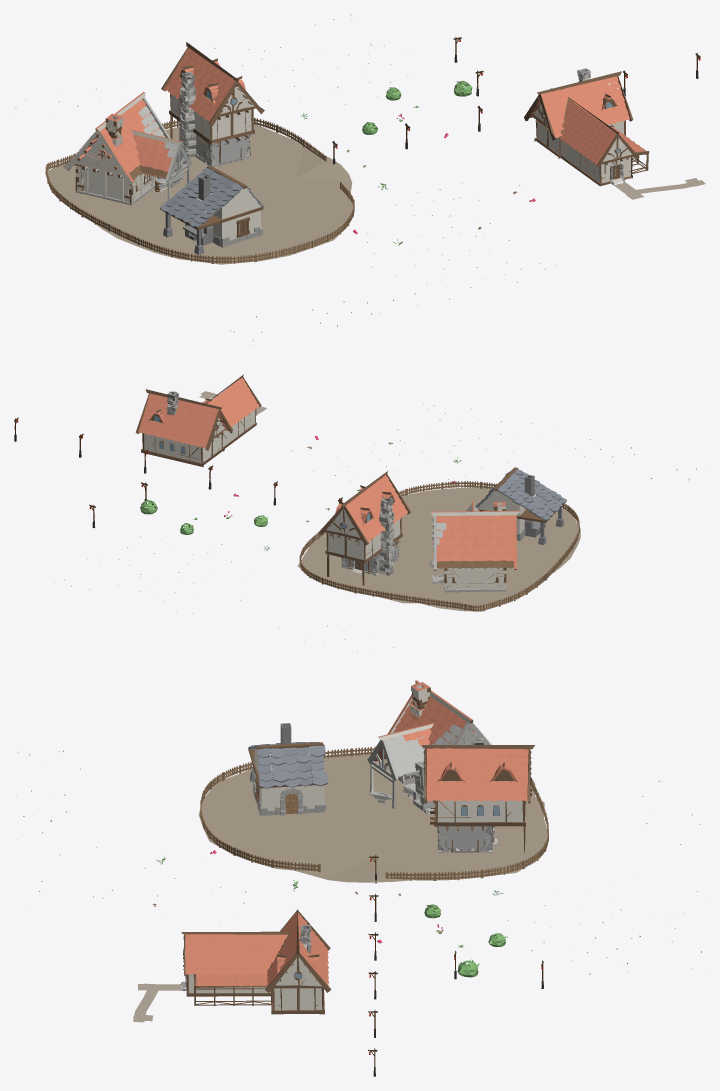
File: chunk_0_1.glb
The picture shows the model from 3 angles, top to bottom: view 1: azimuth 30°, elevation 25°; view 2: azimuth 150°, elevation 25°; view 3: azimuth 270°, elevation 25°; orthographic projection. The views are drawn at different scales.
Parts seen in each view (by area): view 1: Batched_Chunk_0_1; view 2: Batched_Chunk_0_1; view 3: Batched_Chunk_0_1.
Part boxes in pixels (bbox=[...]): Batched_Chunk_0_1: bbox=[15, 14, 705, 345]; Batched_Chunk_0_1: bbox=[14, 374, 705, 651]; Batched_Chunk_0_1: bbox=[16, 680, 705, 1076].
Size of the model in its own units: 99.84 by 14.37 by 89.79.
